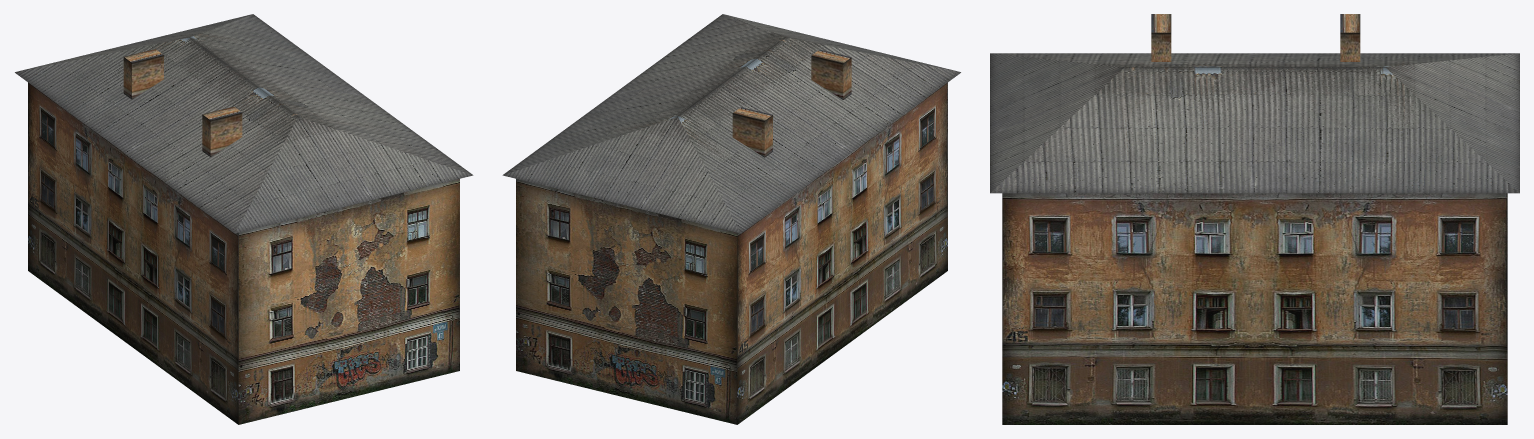
The model's file is d_dom_3et_6.FBX.
The picture shows the model from 3 angles, left to right: view 1: azimuth 30°, elevation 25°; view 2: azimuth 150°, elevation 25°; view 3: azimuth 270°, elevation 25°; orthographic projection. The views are drawn at different scales.
Visible parts, largest first — view 1: d_dom_3et_6; view 2: d_dom_3et_6; view 3: d_dom_3et_6.
Part boxes in pixels (left/top/right/bottom): d_dom_3et_6: left=15, top=14, right=473, bottom=424; d_dom_3et_6: left=502, top=14, right=960, bottom=424; d_dom_3et_6: left=990, top=14, right=1519, bottom=424.
Bounding box in the file's own units: 11.89 × 19 × 11.92.
